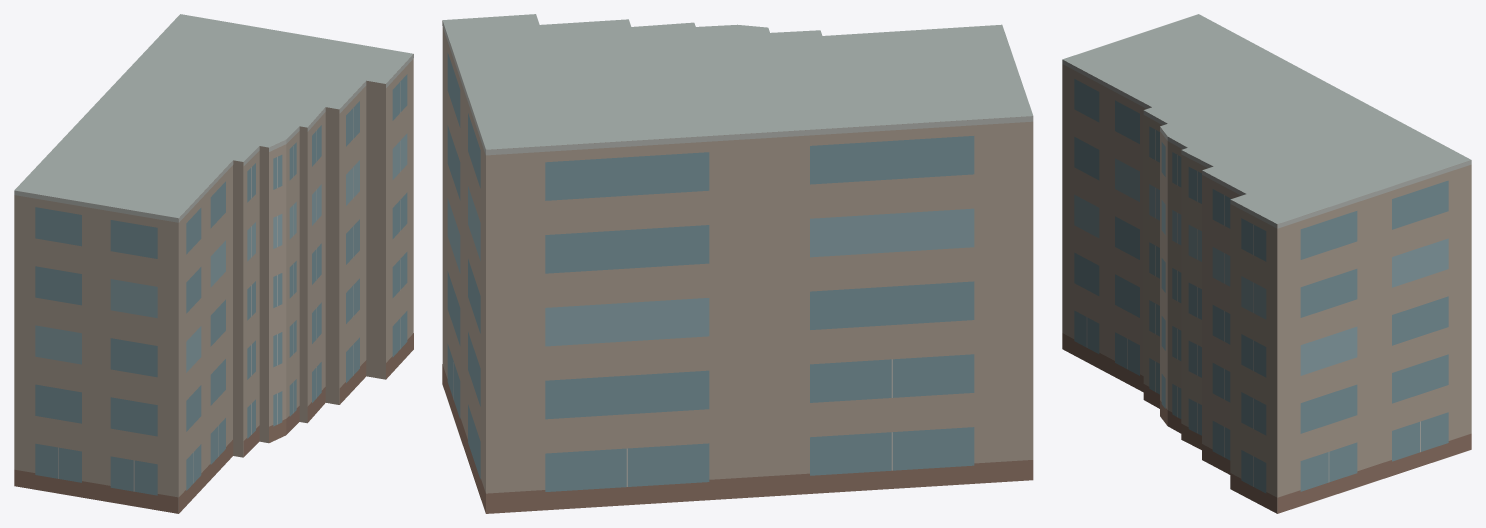
Rendered from survey-upis-32529497.glb.
3 renders of one model, left to right at view 1: azimuth 30°, elevation 25°; view 2: azimuth 150°, elevation 25°; view 3: azimuth 270°, elevation 25°, orthographic. The views are drawn at different scales.
Parts seen in each view (by area): view 1: survey-upis-32529497.tmp; view 2: survey-upis-32529497.tmp; view 3: survey-upis-32529497.tmp.
Boxes of the visible parts, bbox=[...] form: survey-upis-32529497.tmp: bbox=[14, 14, 413, 513]; survey-upis-32529497.tmp: bbox=[442, 14, 1033, 513]; survey-upis-32529497.tmp: bbox=[1062, 14, 1471, 513].
Bounding box in the file's own units: 24.52 × 15.75 × 20.18.
